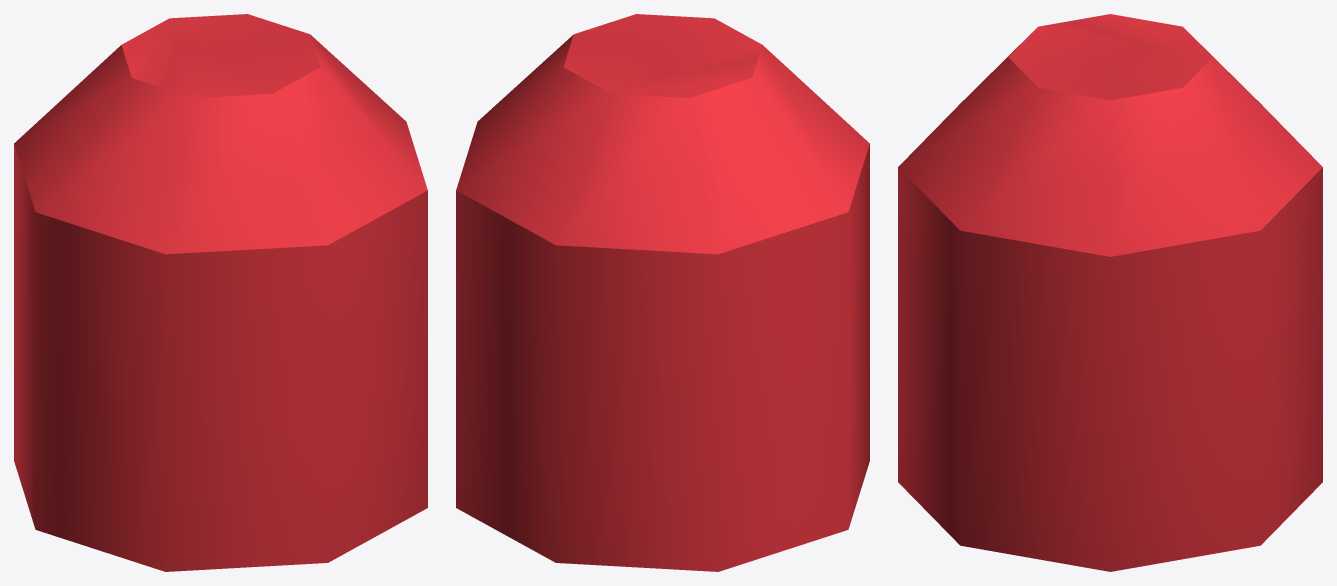
File: nub.fbx
3 renders of one model, left to right at view 1: azimuth 30°, elevation 25°; view 2: azimuth 150°, elevation 25°; view 3: azimuth 270°, elevation 25°, orthographic.
Parts seen in each view (by area): view 1: Cylinder.009; view 2: Cylinder.009; view 3: Cylinder.009.
Part boxes in pixels (box(x1,y1,x2,y2)): Cylinder.009: box(14, 14, 427, 571); Cylinder.009: box(456, 14, 869, 571); Cylinder.009: box(898, 14, 1322, 571).
Size of the model in its own units: 28.82 by 31.81 by 28.82.
